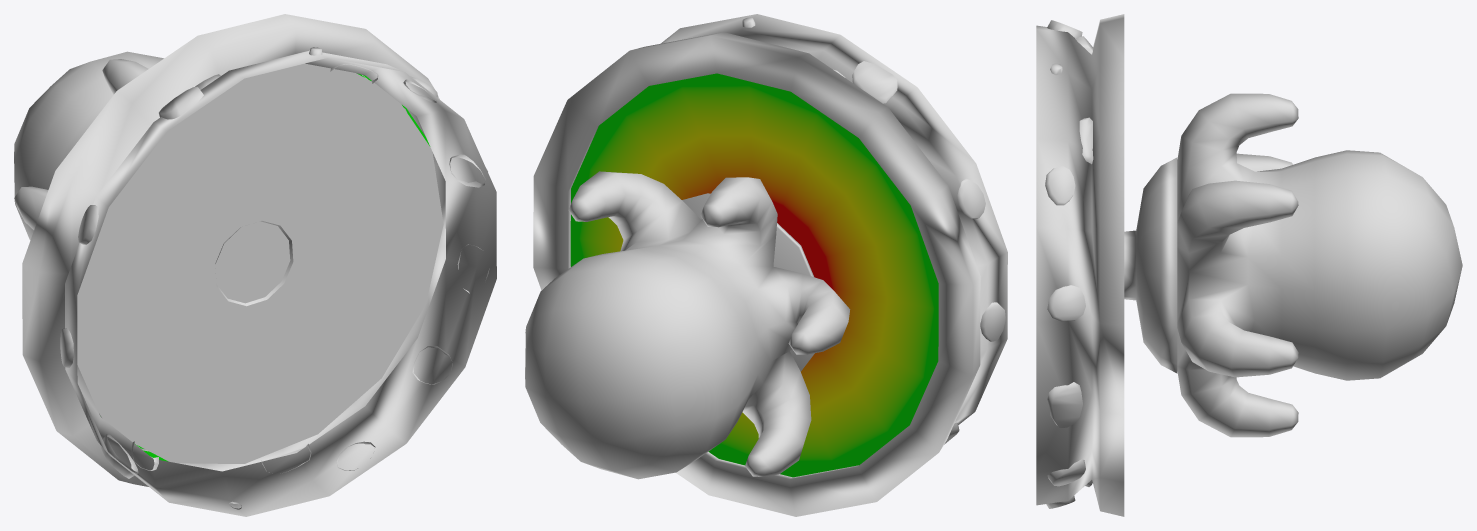
The model's file is WishSquid.fbx.
3 renders of one model, left to right at view 1: azimuth 30°, elevation 25°; view 2: azimuth 150°, elevation 25°; view 3: azimuth 270°, elevation 25°, orthographic.
Parts seen in each view (by area): view 1: WishSquidFountainBasin, WishSquidFountain; view 2: WishSquidFountain, WishSquidFountainWater; view 3: WishSquidFountain.
Part boxes in pixels (x1,y1,x2,y2): WishSquidFountainBasin: (77,63,443,463); WishSquidFountain: (14,14,496,516); WishSquidFountain: (525,14,1007,516); WishSquidFountainWater: (570,73,938,477); WishSquidFountain: (1036,14,1462,516).
Size of the model in its own units: 208 by 208 by 177.
